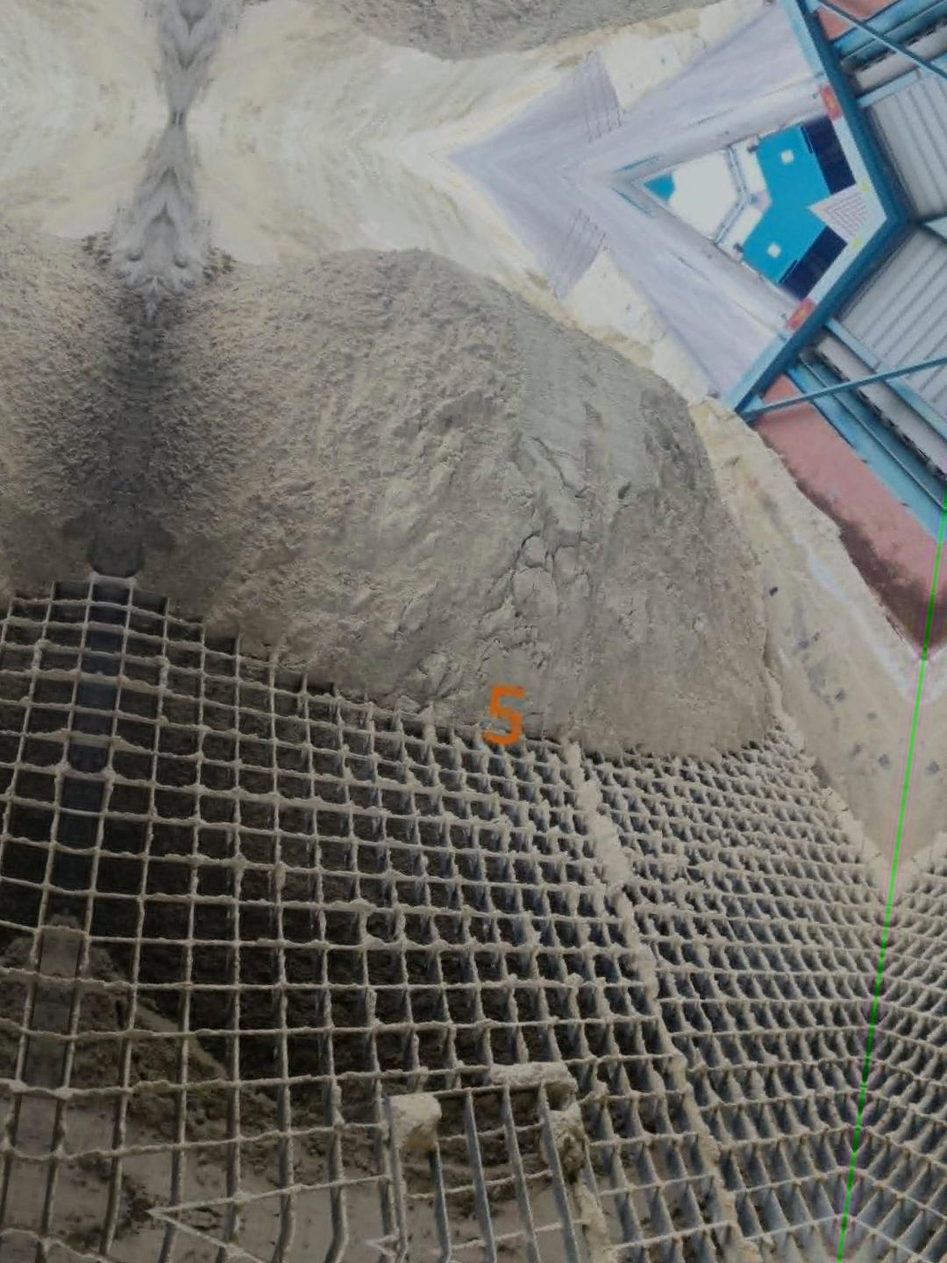sand: (114, 251, 766, 753), (184, 121, 533, 289), (149, 118, 207, 318)
